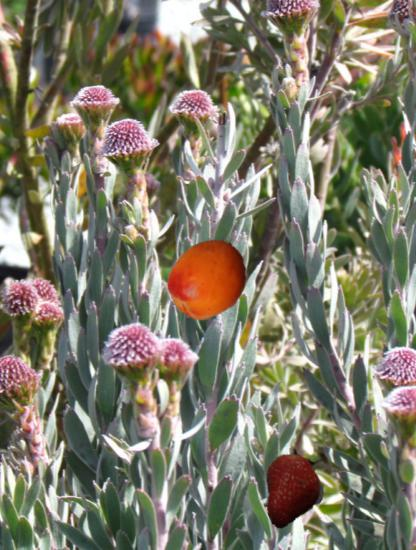Apricot: (165, 237, 251, 323)
Avocado: (276, 460, 327, 511)
Strawberry: (259, 450, 331, 522)
